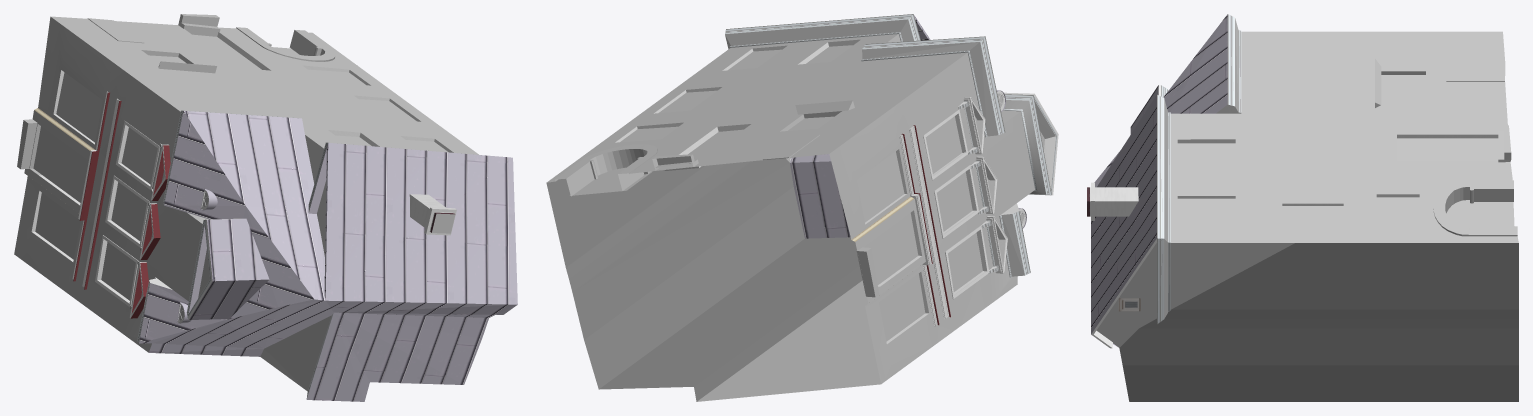
File: Kullassepa_3.obj
The picture shows the model from 3 angles, left to right: view 1: azimuth 30°, elevation 25°; view 2: azimuth 150°, elevation 25°; view 3: azimuth 270°, elevation 25°; orthographic projection. The views are drawn at different scales.
Visible parts, largest first — view 1: Kullassepa_3; view 2: Kullassepa_3; view 3: Kullassepa_3.
Boxes of the visible parts, x1,y1,x2,y2 form: Kullassepa_3: (14, 14, 517, 401); Kullassepa_3: (546, 14, 1058, 401); Kullassepa_3: (1087, 14, 1518, 401).
Bounding box in the file's own units: 13.32 × 11.05 × 15.41.
